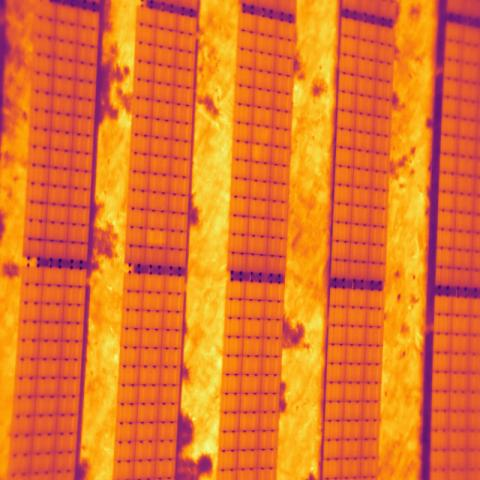fault: (146, 228, 168, 248)
